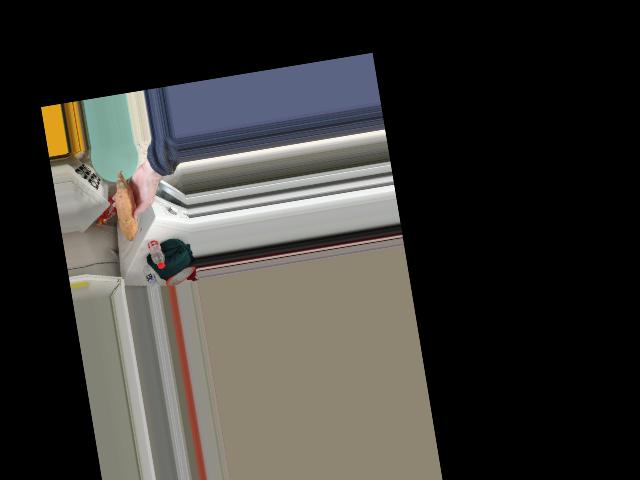sweet_potato: (115, 179, 138, 232)
